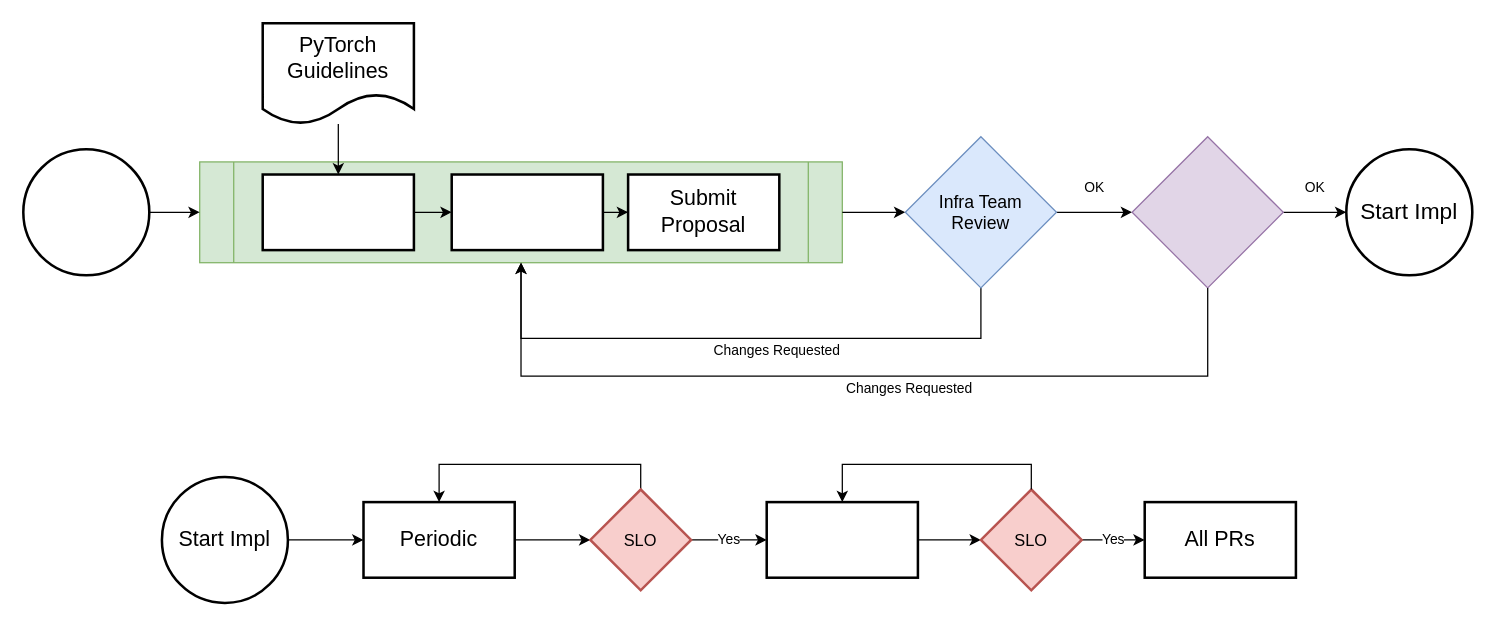
Image size: 1494x625. Some labels were removed from this diagram. Here are the shapes that lost their labels. From the top down, the centre of each, then its label:
At [85,211]: "New Vendor".
At [338,212]: "Review Guidelines".
At [527,212]: "Chose Integration Style".
At [1207,211]: "TAC Review".
At [842,539]: "PR on Demand".
